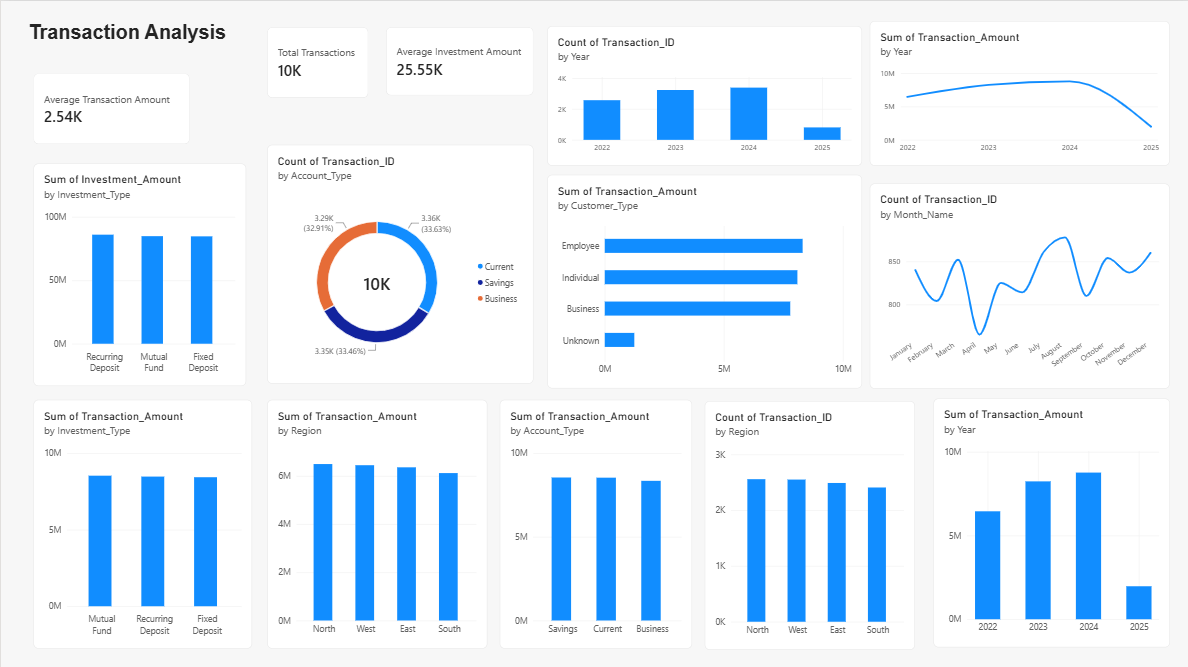

This screenshot's page, from the dashboard's own definition file:
{"tool":"powerbi","page":{"name":"Transaction Analysis","canvas":[1920,1080],"ordinal":2},"visuals":[{"type":"cardVisual","fields":{"Data":["transaction_cleaned.Total Transactions"]},"box":[429.7,42.4,163.4,115],"z":0},{"type":"cardVisual","fields":{"Data":["bank_cleaned.Average Transaction Amount"]},"box":[52.4,117,252.2,115],"z":1000},{"type":"cardVisual","fields":{"Data":["bank_cleaned.Average Investment Amount"]},"box":[621.3,42.4,238,110.9],"z":2000},{"type":"lineChart","fields":{"Category":["transaction_cleaned.Transaction_Date.Variation.Date Hierarchy.Year","transaction_cleaned.Transaction_Date.Variation.Date Hierarchy.Month"],"Y":["Sum(transaction_cleaned.Transaction_Amount)"]},"box":[1402,32.3,484.1,234],"z":3000},{"type":"clusteredColumnChart","fields":{"Category":["transaction_cleaned.Account_Type"],"Y":["Sum(transaction_cleaned.Transaction_Amount)"]},"box":[804.9,643.5,310.7,401.4],"z":4000},{"type":"clusteredColumnChart","fields":{"Category":["transaction_cleaned.Investment_Type"],"Y":["Sum(transaction_cleaned.Investment_Amount)"]},"box":[52.4,262.2,342.9,359.1],"z":5000},{"type":"donutChart","fields":{"Category":["transaction_cleaned.Account_Type"],"Y":["CountNonNull(transaction_cleaned.Transaction_ID)"]},"box":[429.7,232,429.7,385.3],"z":6000},{"type":"clusteredColumnChart","fields":{"Category":["transaction_cleaned.Year"],"Y":["CountNonNull(transaction_cleaned.Transaction_ID)"]},"box":[881.5,40.3,508.3,225.9],"z":7000},{"type":"clusteredColumnChart","fields":{"Category":["transaction_cleaned.Investment_Type"],"Y":["Sum(transaction_cleaned.Transaction_Amount)"]},"box":[52.4,643.5,353,401.4],"z":8000},{"type":"lineChart","fields":{"Category":["transaction_cleaned.Month_Name"],"Y":["CountNonNull(transaction_cleaned.Transaction_ID)"]},"box":[1402,294.5,484.1,330.8],"z":9000},{"type":"clusteredColumnChart","fields":{"Category":["transaction_cleaned.Year"],"Y":["Sum(transaction_cleaned.Transaction_Amount)"]},"box":[1504.9,641.5,381.3,401.4],"z":10000},{"type":"clusteredColumnChart","fields":{"Category":["customer_cleaned.Region"],"Y":["Sum(transaction_cleaned.Transaction_Amount)"]},"box":[429.7,643.5,355,401.4],"z":11000},{"type":"clusteredColumnChart","fields":{"Category":["customer_cleaned.Region"],"Y":["CountNonNull(transaction_cleaned.Transaction_ID)"]},"box":[1135.7,645.5,338.9,401.4],"z":12000},{"type":"clusteredBarChart","fields":{"Category":["customer_cleaned.Customer_Type"],"Y":["Sum(transaction_cleaned.Transaction_Amount)"]},"box":[881.5,280.4,508.3,344.9],"z":13000},{"type":"textbox","box":[44.4,32.3,342.9,68.6],"z":14000}]}

Visuals, with their boxes in screenshot pixels (x1, y1, x2, y2), scaled from the page's 1920x1080 canvas onto the 1188x667 screenshot:
cardVisual - transaction_cleaned.Total Transactions: [266,26,367,97]
cardVisual - bank_cleaned.Average Transaction Amount: [32,72,188,143]
cardVisual - bank_cleaned.Average Investment Amount: [384,26,532,95]
lineChart - transaction_cleaned.Transaction_Date.Variation.Date Hierarchy.Year x transaction_cleaned.Transaction_Date.Variation.Date Hierarchy.Month: [867,20,1167,164]
clusteredColumnChart - transaction_cleaned.Account_Type x Sum(transaction_cleaned.Transaction_Amount): [498,397,690,645]
clusteredColumnChart - transaction_cleaned.Investment_Type x Sum(transaction_cleaned.Investment_Amount): [32,162,245,384]
donutChart - transaction_cleaned.Account_Type x CountNonNull(transaction_cleaned.Transaction_ID): [266,143,532,381]
clusteredColumnChart - transaction_cleaned.Year x CountNonNull(transaction_cleaned.Transaction_ID): [545,25,860,164]
clusteredColumnChart - transaction_cleaned.Investment_Type x Sum(transaction_cleaned.Transaction_Amount): [32,397,251,645]
lineChart - transaction_cleaned.Month_Name x CountNonNull(transaction_cleaned.Transaction_ID): [867,182,1167,386]
clusteredColumnChart - transaction_cleaned.Year x Sum(transaction_cleaned.Transaction_Amount): [931,396,1167,644]
clusteredColumnChart - customer_cleaned.Region x Sum(transaction_cleaned.Transaction_Amount): [266,397,486,645]
clusteredColumnChart - customer_cleaned.Region x CountNonNull(transaction_cleaned.Transaction_ID): [703,399,912,647]
clusteredBarChart - customer_cleaned.Customer_Type x Sum(transaction_cleaned.Transaction_Amount): [545,173,860,386]
textbox: [27,20,240,62]
